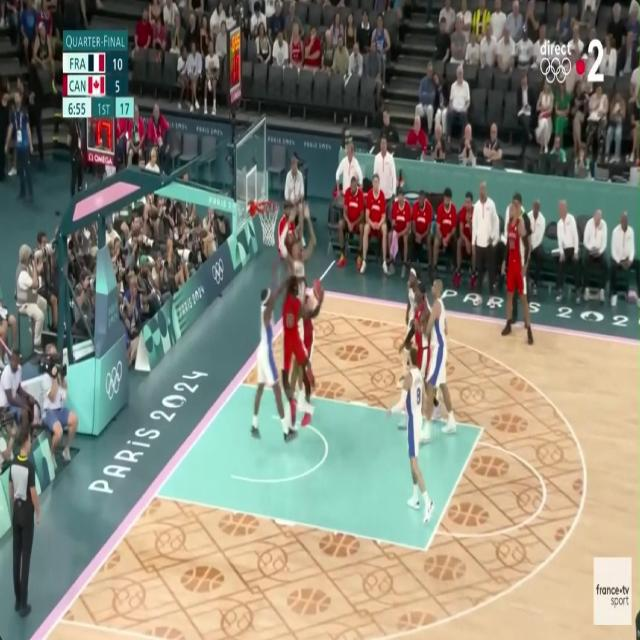ball_handler: (281, 273, 325, 420)
